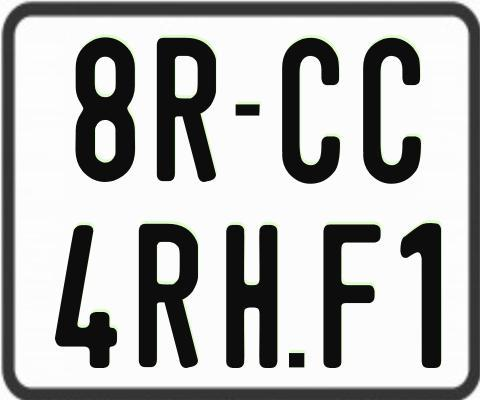1: (398, 220, 445, 369)
4: (53, 223, 115, 372)
8: (74, 36, 134, 185)
C: (282, 35, 346, 184), (363, 35, 424, 182)
F: (321, 223, 381, 371)
H: (223, 224, 274, 371)
R: (155, 36, 216, 183), (138, 223, 198, 369)
